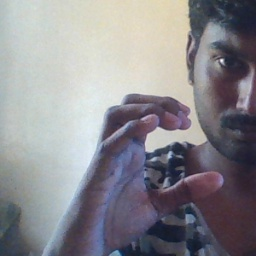C: (100, 88, 229, 221)
